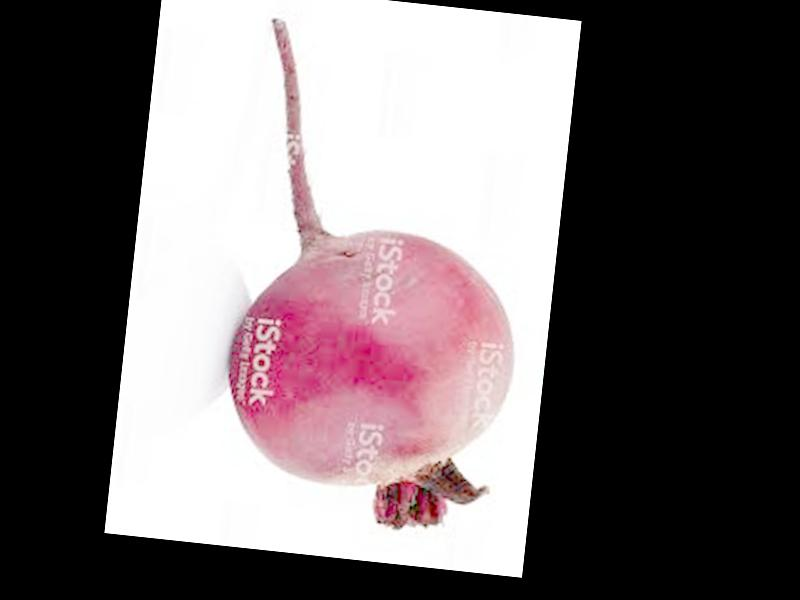Beet: (213, 19, 545, 538)
